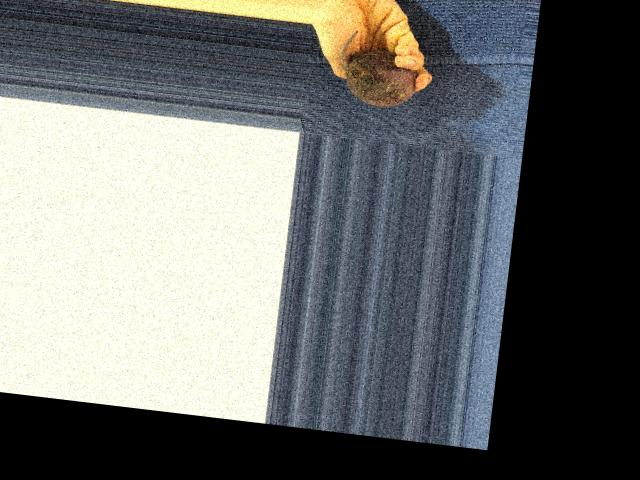beet: (335, 27, 422, 109)
